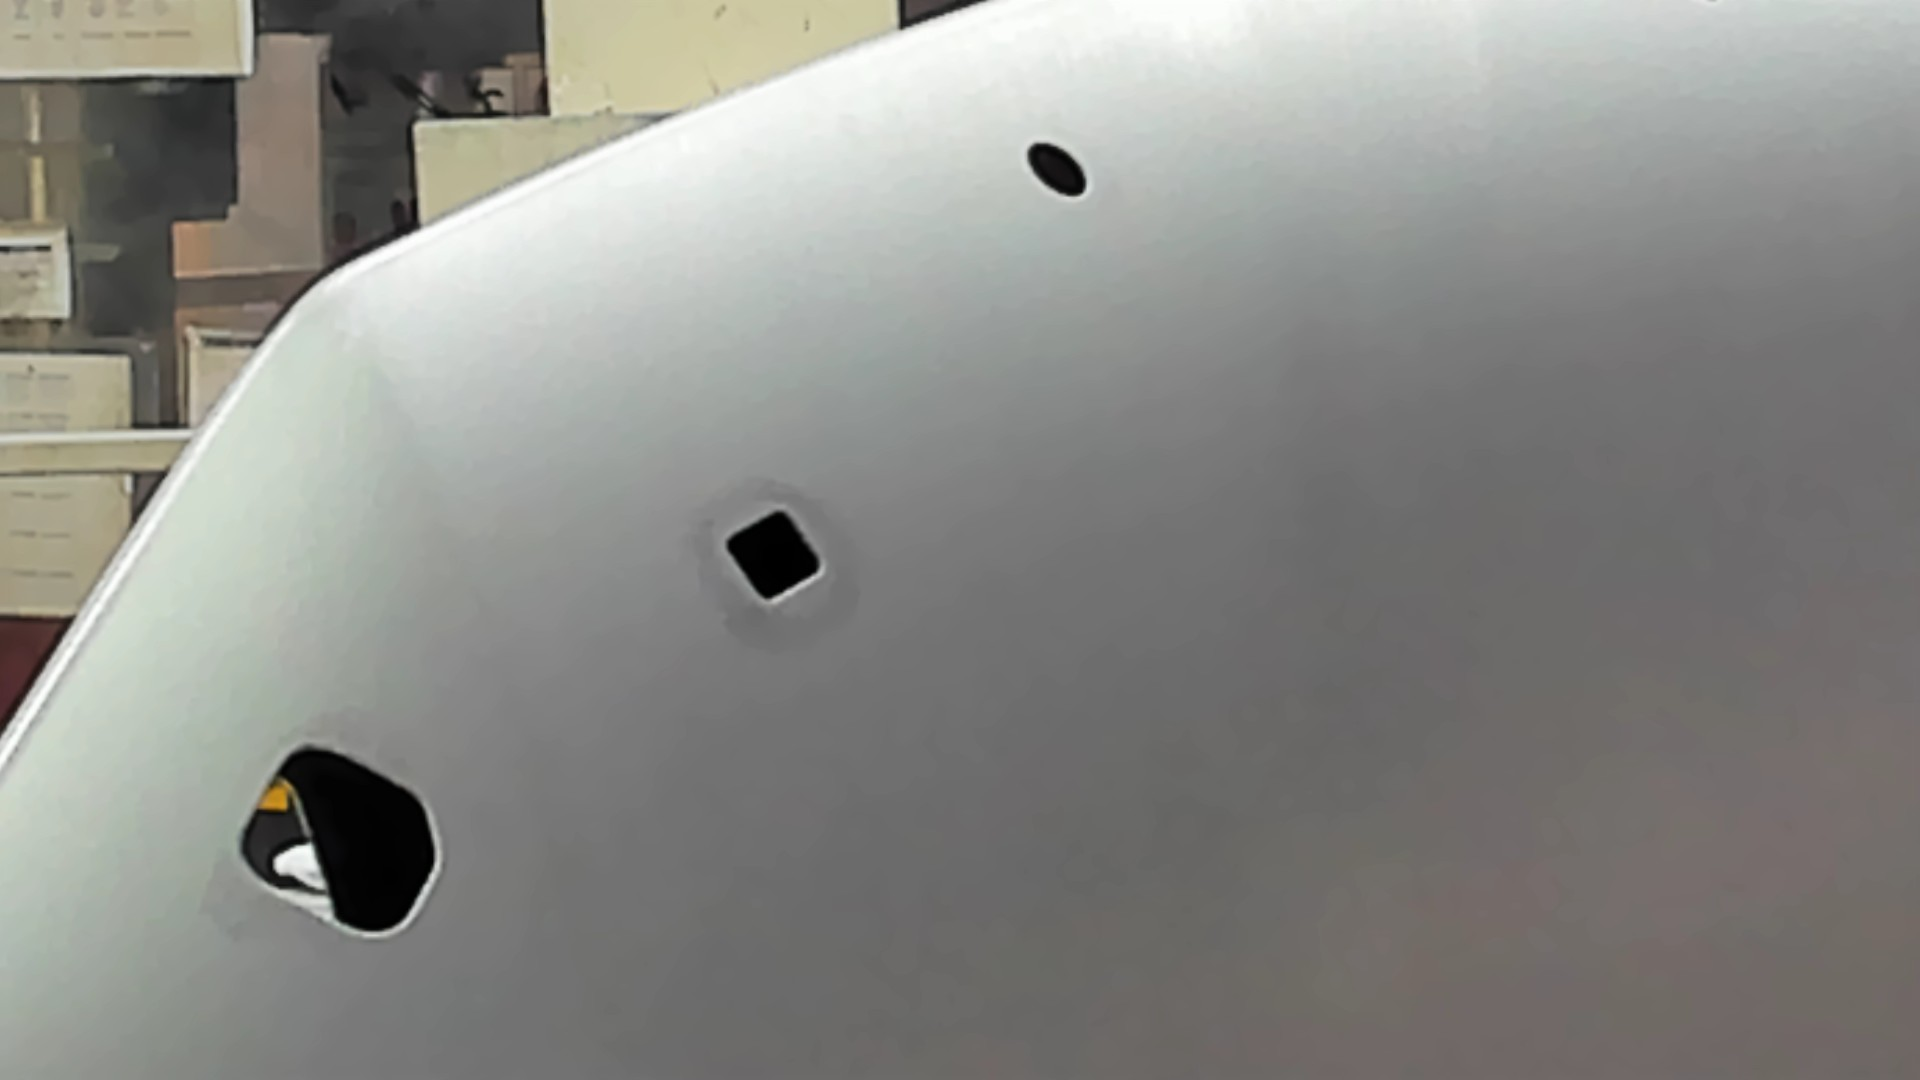capo: (843, 207, 1920, 1080)
chico: (1023, 135, 1092, 200)
grande: (229, 737, 450, 945)
mediano: (711, 502, 833, 607)
